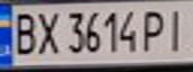1: (100, 7, 121, 53)
3: (63, 8, 84, 55)
4: (118, 7, 142, 53)
6: (81, 8, 103, 54)
B: (6, 8, 39, 56)
I: (163, 5, 193, 53)
P: (139, 6, 172, 53)
X: (33, 8, 63, 56)
